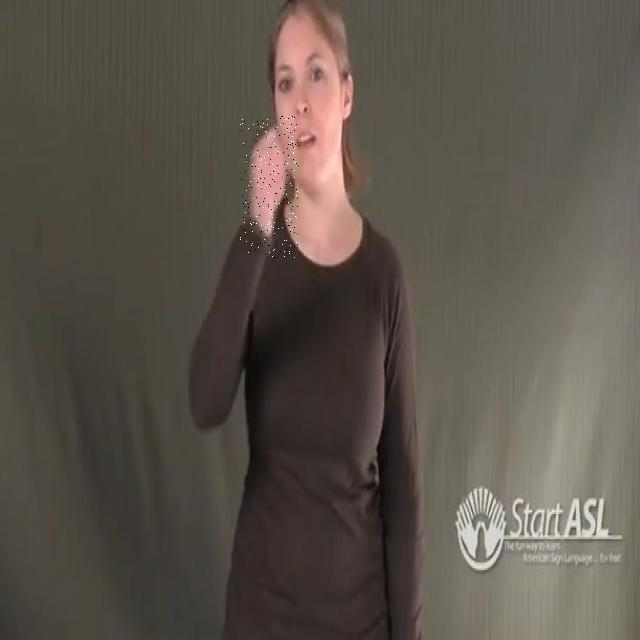icecream: (240, 116, 298, 258)
